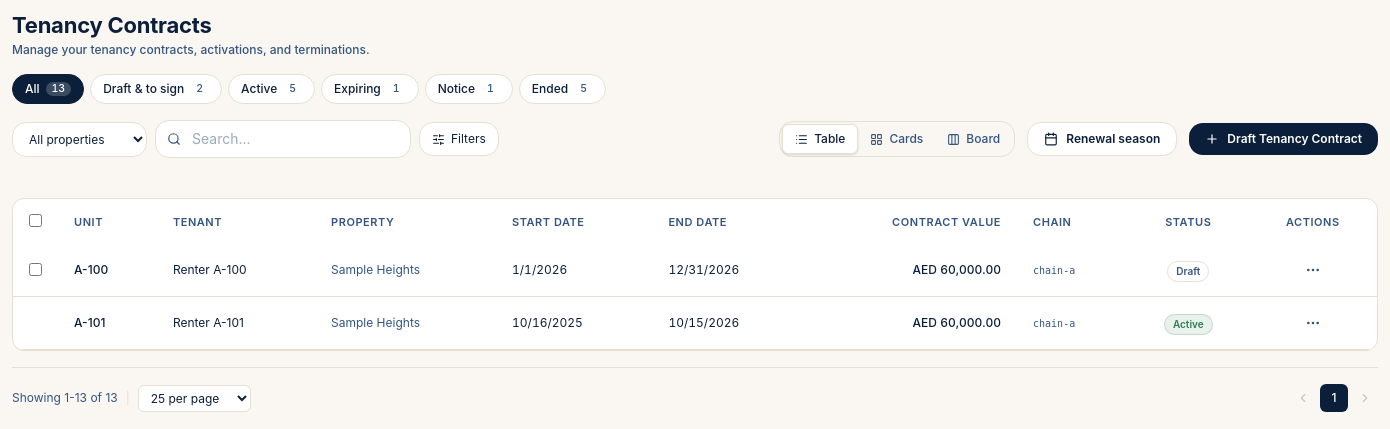
Test: filters and row menus › moves the all-status select behind Filters and shows a chip when used
This screenshot has width=1390, height=429.
Expected: the row with test id "lease-row-l-draft" is shown, 13,244 -> 1377,297
Click the button with test id "filters-button".
click(459, 139)  # box 419,122 -> 499,156
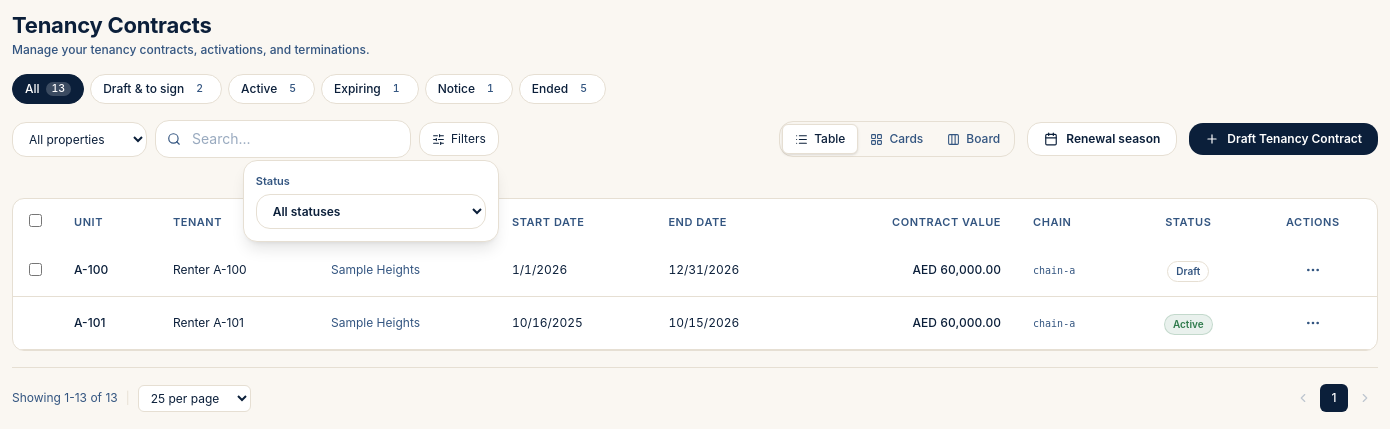
Now the dropdown with test id "lease-status-filter" is shown
Select "Pending Signature" in the dropdown with test id "lease-status-filter" at (371, 211), box 256,194 -> 486,229
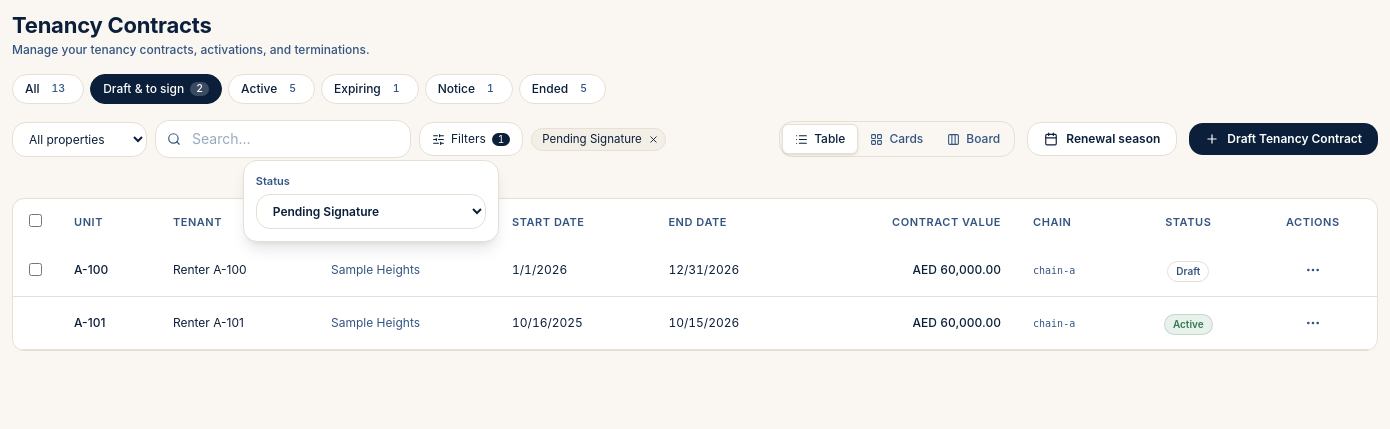
Now the element with test id "lease-filter-chip-status" reads "Pending Signature", box 542,132 -> 642,146
Click the button with test id "lease-filter-chip-status-remove".
click(653, 139)  # box 646,132 -> 661,147
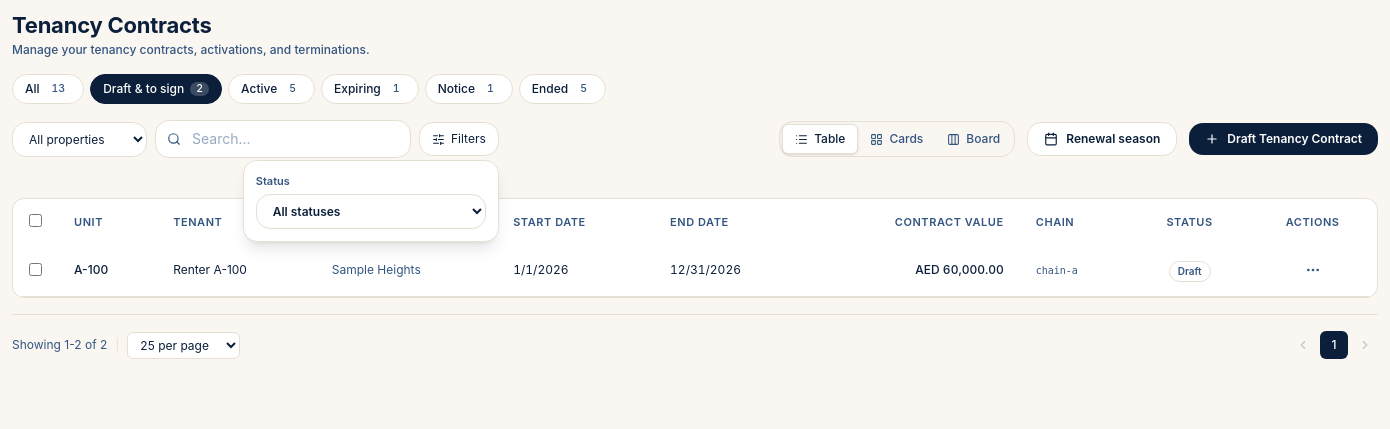
Now the element with test id "lease-filter-chip-status" is gone
